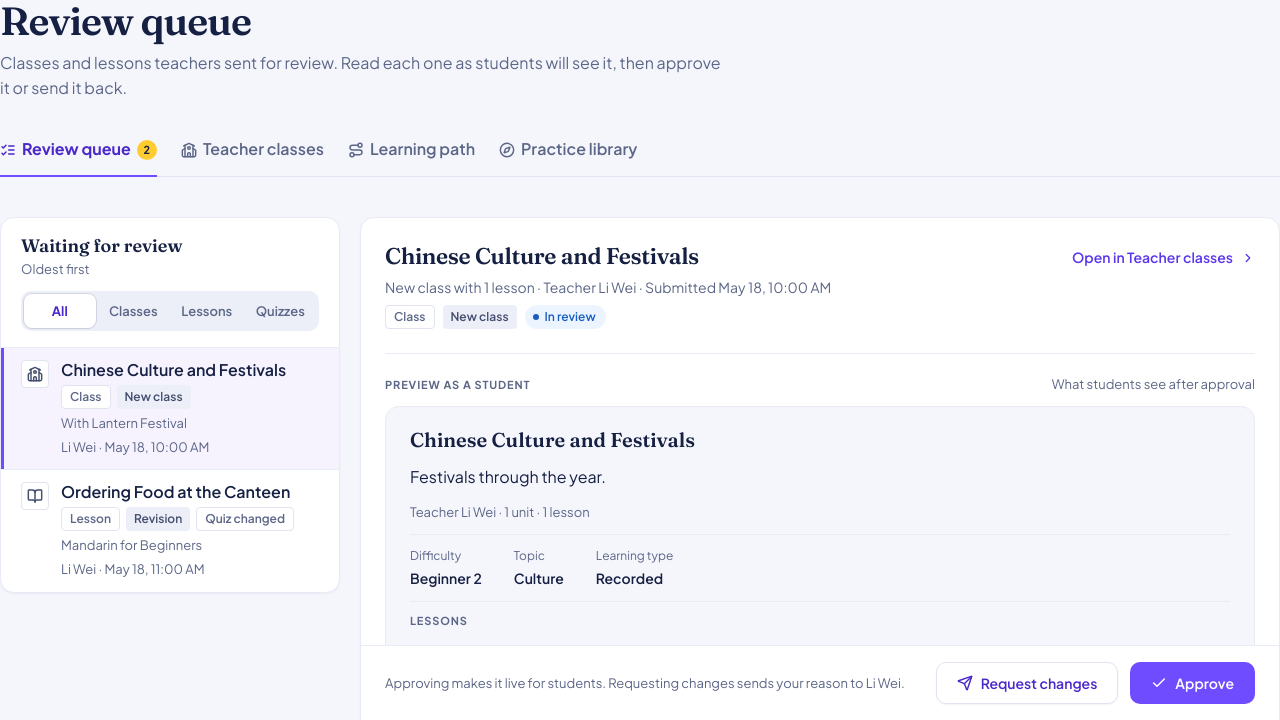
AdminContentReviewPage › approves after confirming what goes live
The width and height of the screenshot is (1280, 720).
Click the button with test id "approve".
click(1193, 683)  # box x1=1130 y1=662 x2=1255 y2=704
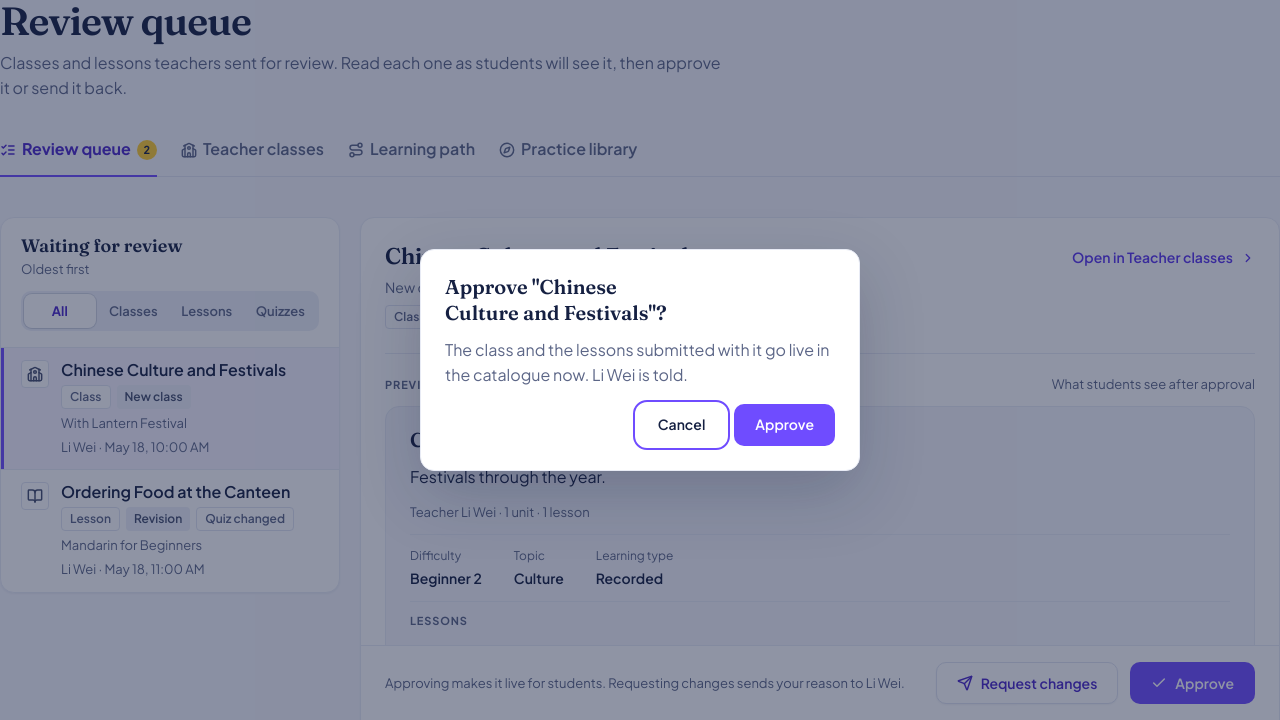
Check: the dialog with test id "approve-dialog" shows "go live in the catalogue now", box x1=445 y1=339 x2=830 y2=385
Click the button with test id "approve-dialog-confirm".
click(785, 425)  # box x1=734 y1=404 x2=835 y2=446
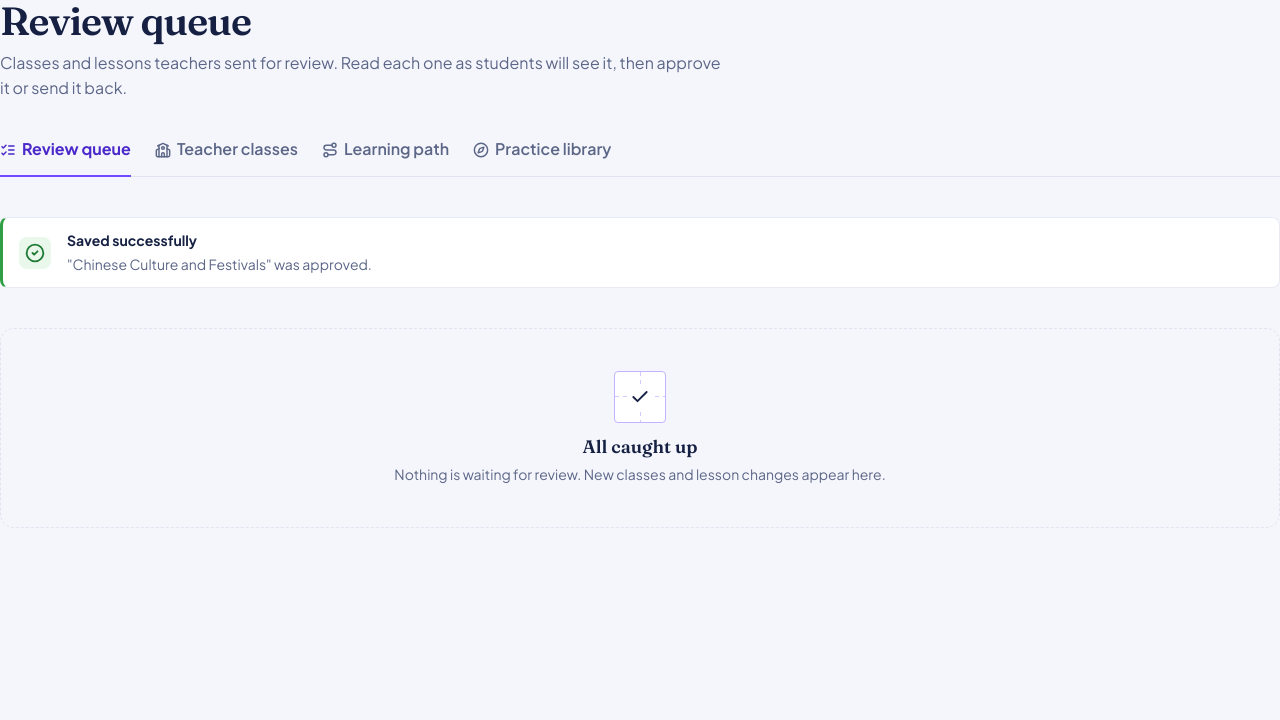
Check: the text "All caught up" is shown, box x1=582 y1=435 x2=698 y2=458
